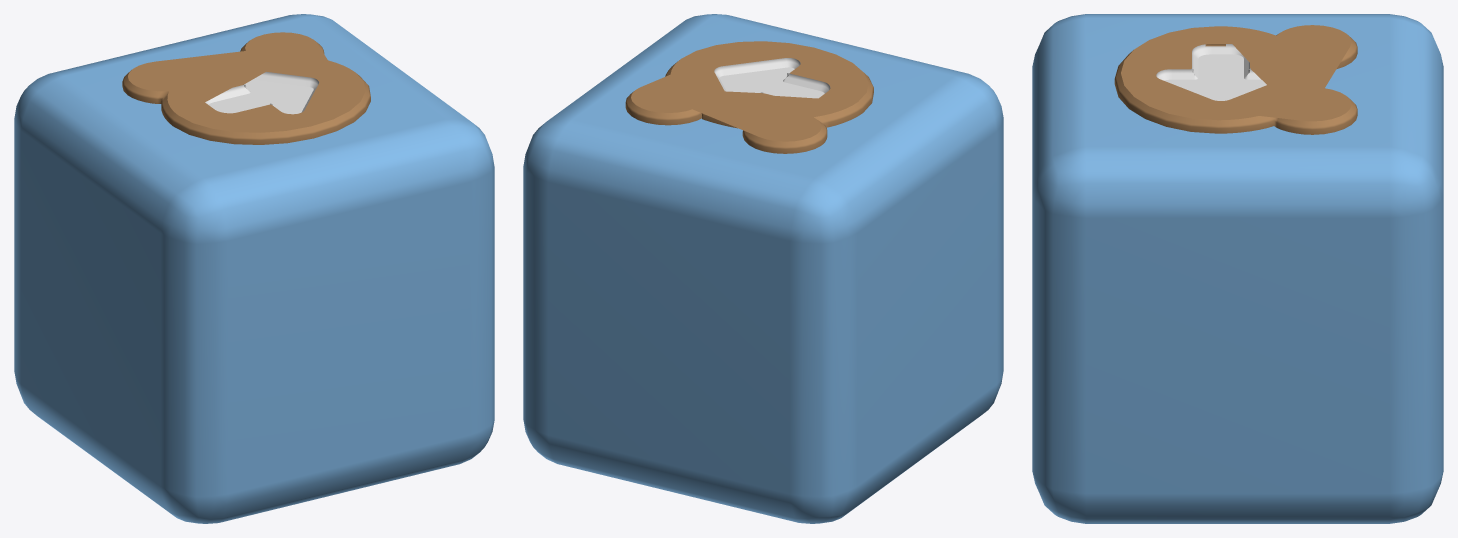
Rendered from forward_block.fbx.
The picture shows the model from 3 angles, left to right: view 1: azimuth 30°, elevation 25°; view 2: azimuth 150°, elevation 25°; view 3: azimuth 270°, elevation 25°; orthographic projection. The views are drawn at different scales.
Visible parts, largest first — view 1: polySurface38, polySurface39; view 2: polySurface38, polySurface39; view 3: polySurface38, polySurface39.
Boxes of the visible parts, x1,y1,x2,y2 form: polySurface38: (14,14,494,523); polySurface39: (122,32,370,144); polySurface38: (523,14,1003,523); polySurface39: (625,41,873,153); polySurface38: (1032,14,1443,523); polySurface39: (1114,25,1357,134).
Bounding box in the file's own units: 0.01 × 0.0103 × 0.01.
